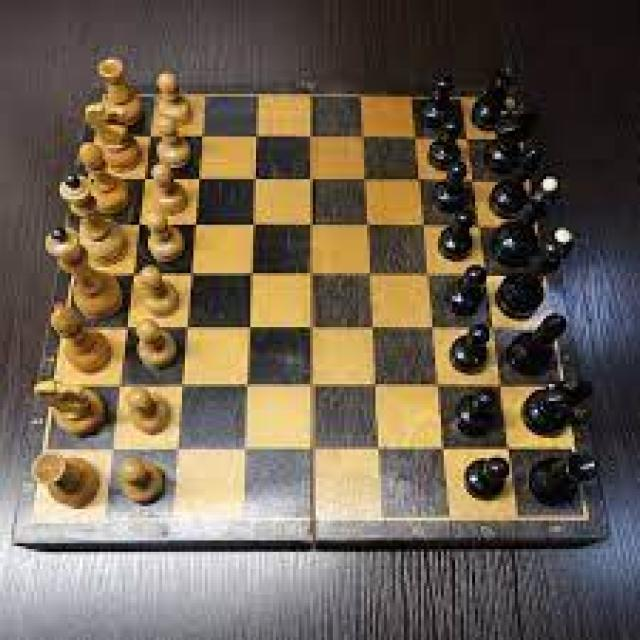chess-table-corners: (18, 503, 54, 537), (568, 503, 602, 532)
